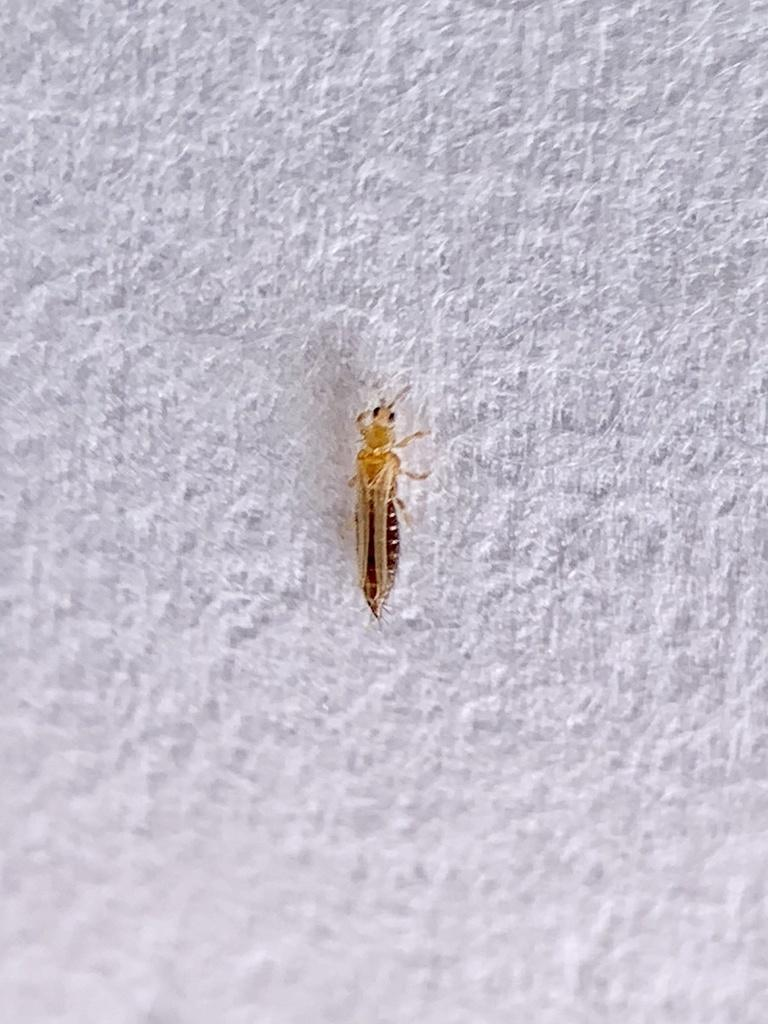tiny_pests: (300, 361, 454, 649)
